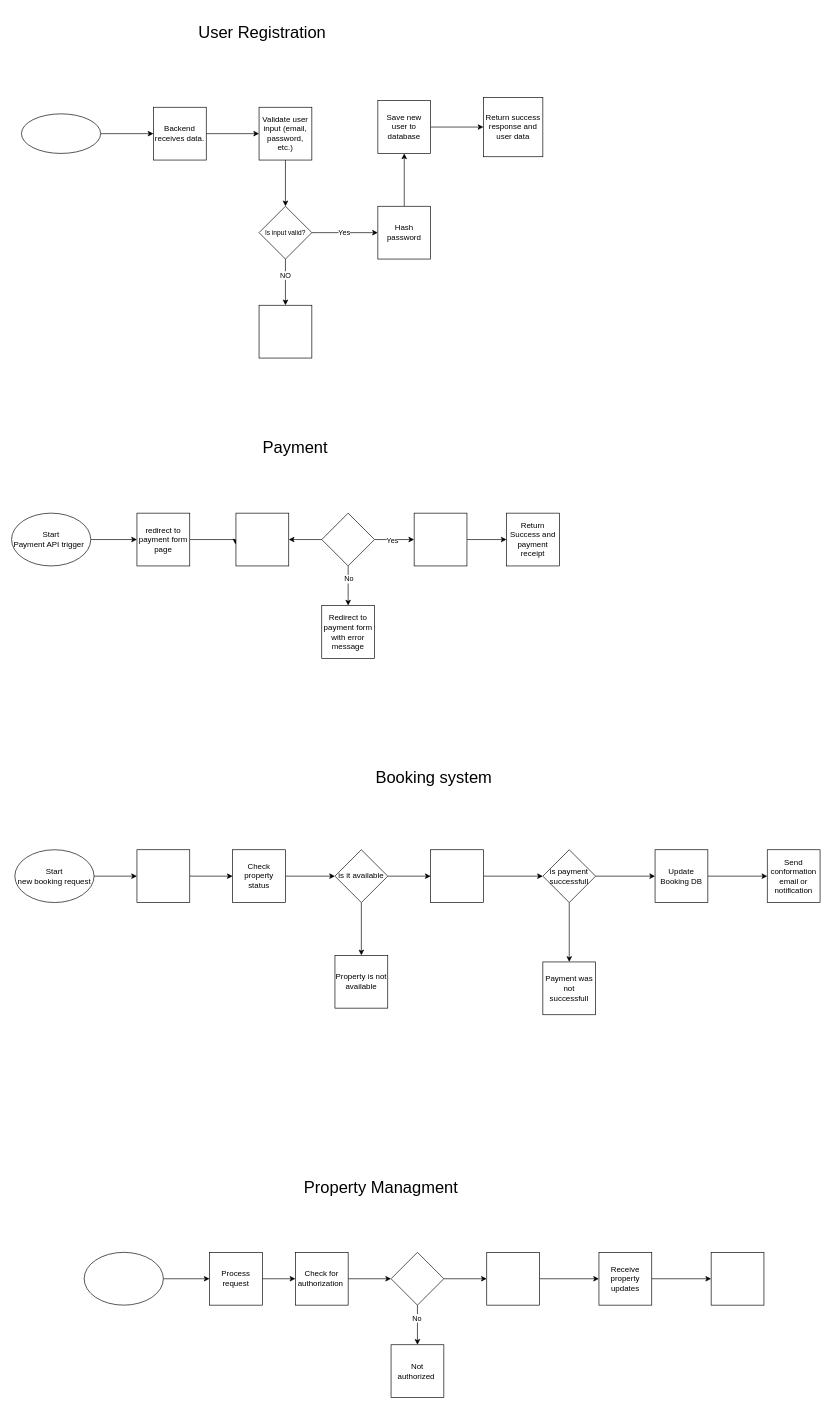
Some shapes in this 832 by 1409 pixel diagram are drawn without their labels. The shapes that lost their labels are listed below. From the top down, each one's centre as x and y in pixels, then its label:
At pixel 61 133: "Start User submits registration form".
At pixel 285 331: "Send 'Invalid input' error".
At pixel 262 539: "Process Payment information".
At pixel 348 539: "is it valid".
At pixel 440 539: "Update payment DB".
At pixel 163 876: "booking API active".
At pixel 456 876: "redirect to payment form".
At pixel 123 1278: "Start user visits property admin api".
At pixel 417 1278: "Authorized".
At pixel 513 1278: "Login in user to admin page".
At pixel 737 1278: "Commit changes to property DB".
